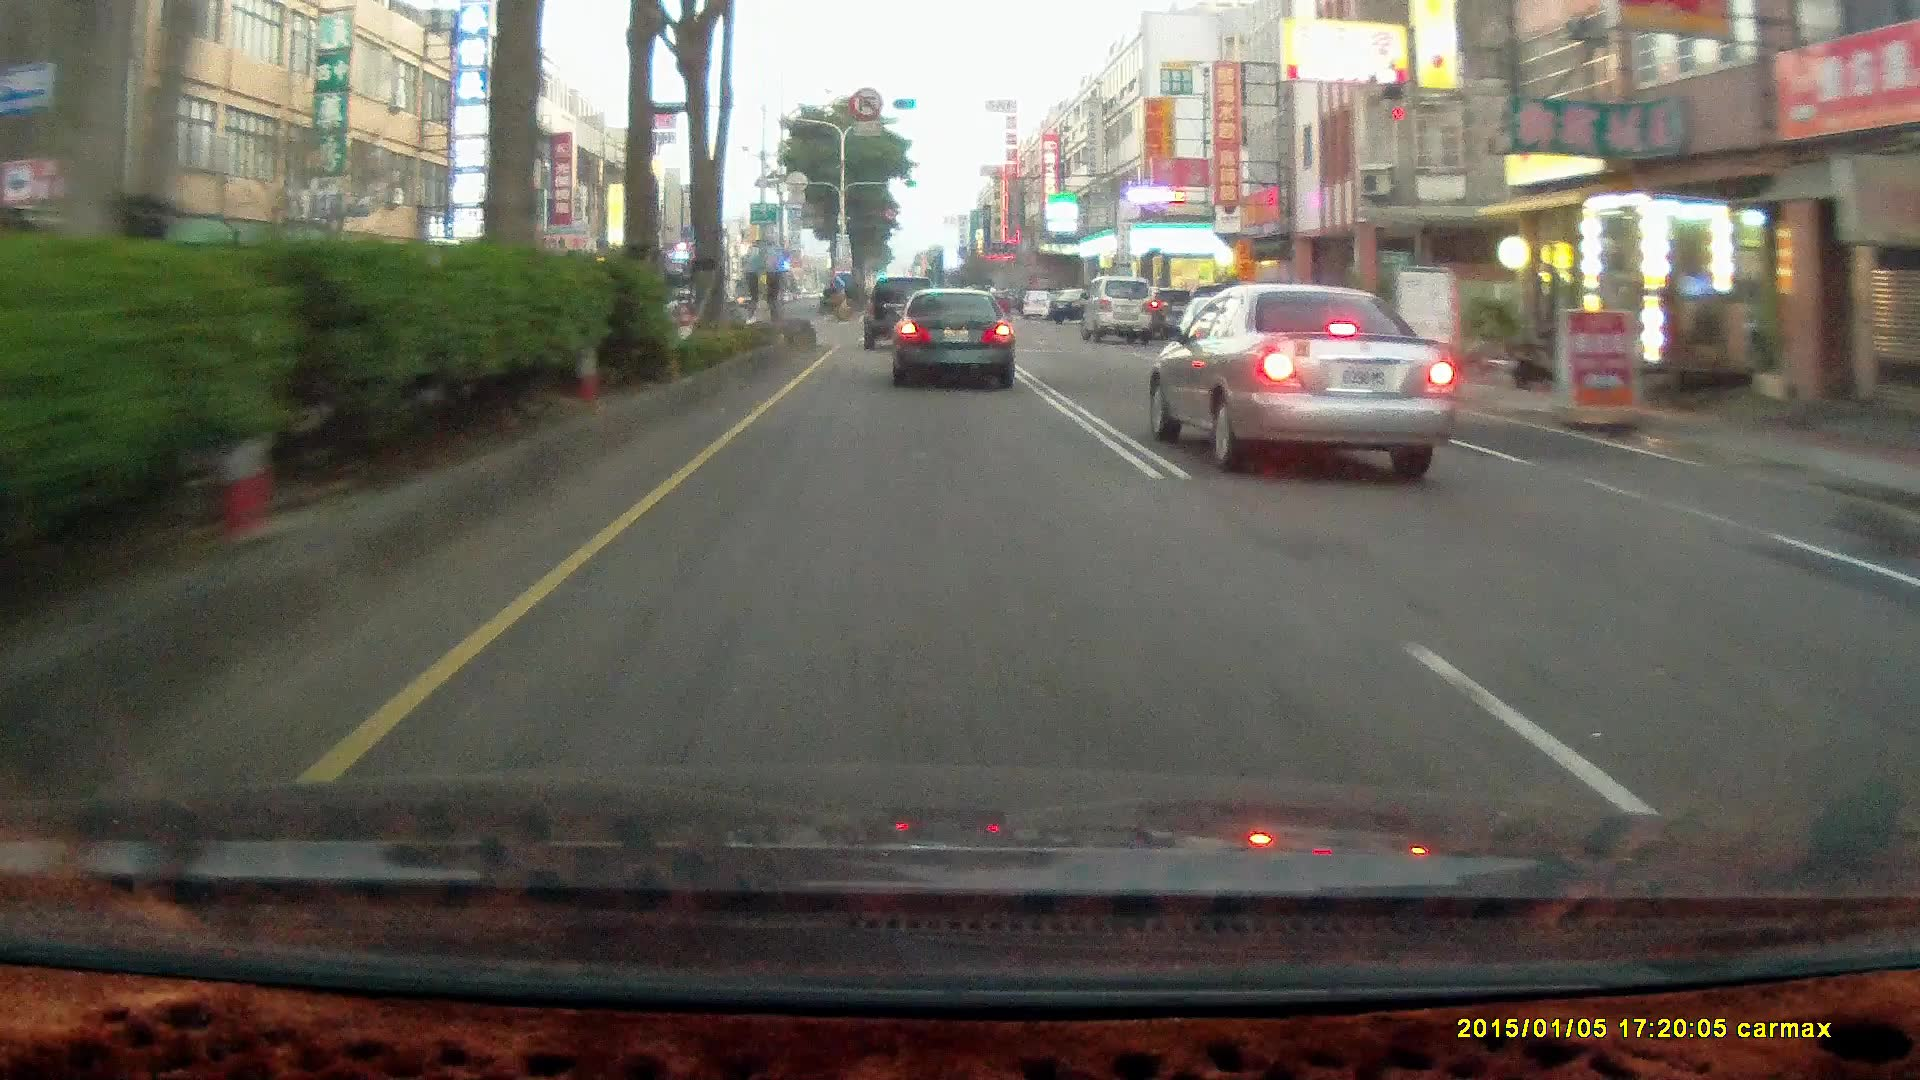vehicle: (1149, 286, 1456, 469), (890, 287, 1021, 396), (891, 286, 1011, 390), (862, 278, 942, 355), (862, 282, 938, 355), (1081, 274, 1156, 342), (1081, 280, 1156, 345), (1048, 284, 1104, 323), (1022, 287, 1052, 316)
